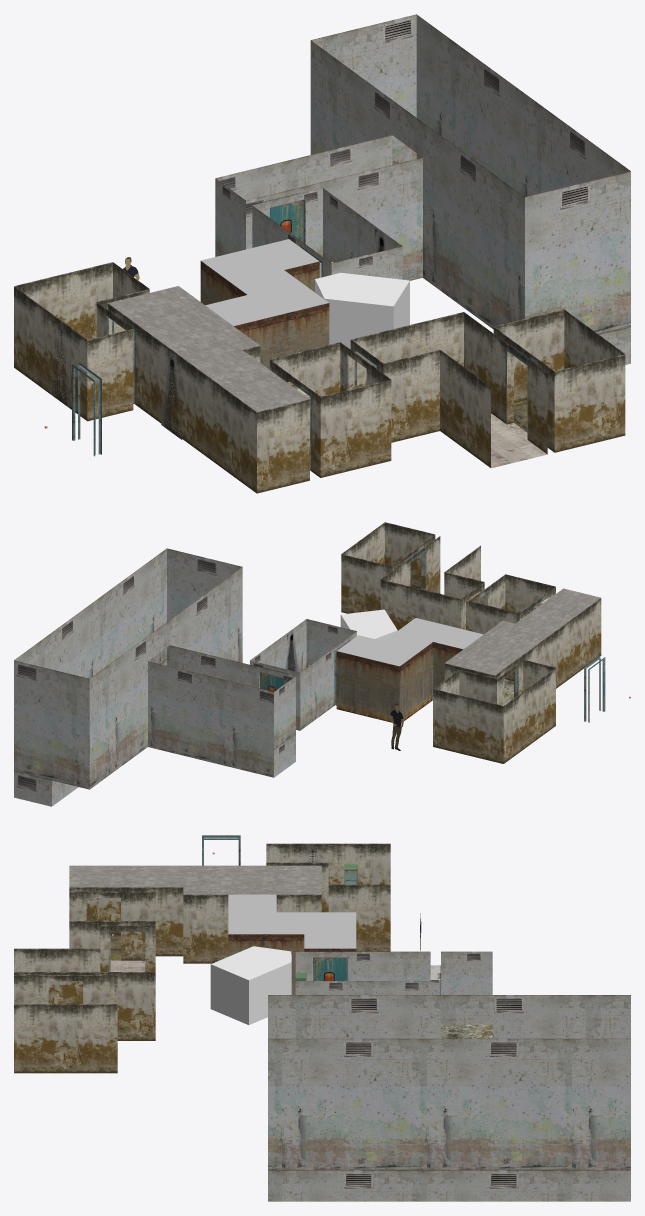
The model's file is gen2.dae.
The picture shows the model from 3 angles, top to bottom: view 1: azimuth 30°, elevation 25°; view 2: azimuth 150°, elevation 25°; view 3: azimuth 270°, elevation 25°; orthographic projection. The views are drawn at different scales.
Visible parts, largest first — view 1: tunnel_sewer, tunnel_office (×2), tunnel_school (×2), tunnel_carnage (×3), tunnel_sewerarm, tunnel_classroom, convex, group_1, group_0, door_3; view 2: tunnel_sewer, tunnel_office (×2), tunnel_sewerarm, tunnel_carnage (×3), tunnel_school, tunnel_classroom, convex, prop; view 3: tunnel_sewer, tunnel_office (×2), tunnel_carnage (×3), tunnel_school, tunnel_classroom, convex, tunnel_sewerarm (×2), door_1.
Boxes of the visible parts, <box> form: tunnel_sewer: <box>310,14,630,364</box>; tunnel_office (×2): <box>14,262,310,493</box>; tunnel_school (×2): <box>269,312,547,477</box>; tunnel_carnage (×3): <box>200,188,402,369</box>; tunnel_sewerarm: <box>215,135,422,280</box>; tunnel_classroom: <box>493,309,625,452</box>; convex: <box>315,272,409,349</box>; group_1: <box>161,345,181,439</box>; group_0: <box>49,321,70,407</box>; door_3: <box>270,200,302,241</box>; tunnel_sewer: <box>14,548,242,806</box>; tunnel_office (×2): <box>433,588,601,763</box>; tunnel_sewerarm: <box>148,645,295,777</box>; tunnel_carnage (×3): <box>250,618,483,730</box>; tunnel_school: <box>380,536,555,634</box>; tunnel_classroom: <box>341,522,435,613</box>; convex: <box>340,609,397,641</box>; prop: <box>284,629,299,672</box>; tunnel_sewer: <box>268,995,630,1201</box>; tunnel_office (×2): <box>69,843,390,963</box>; tunnel_carnage (×3): <box>228,894,430,994</box>; tunnel_school: <box>14,891,155,1040</box>; tunnel_classroom: <box>14,975,117,1073</box>; convex: <box>210,946,291,1024</box>; tunnel_sewerarm (×2): <box>430,951,492,1038</box>; door_1: <box>313,958,347,980</box>.
Size of the model in its own units: 688 by 703 by 205.
